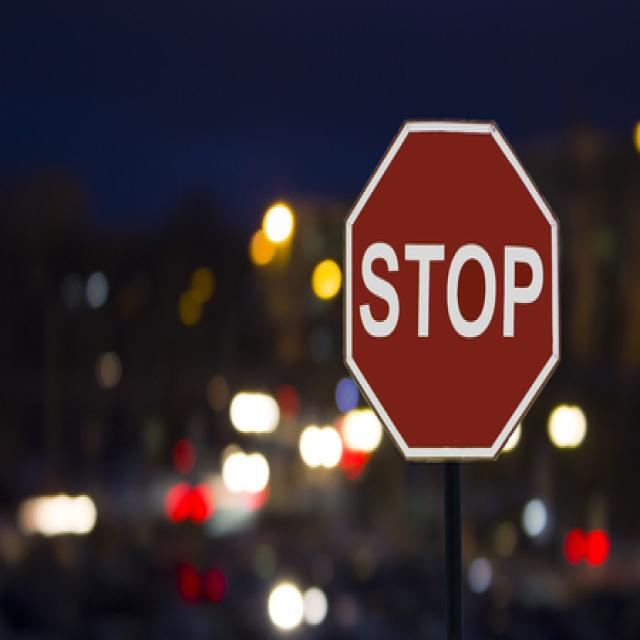STOP: (344, 122, 558, 457)
